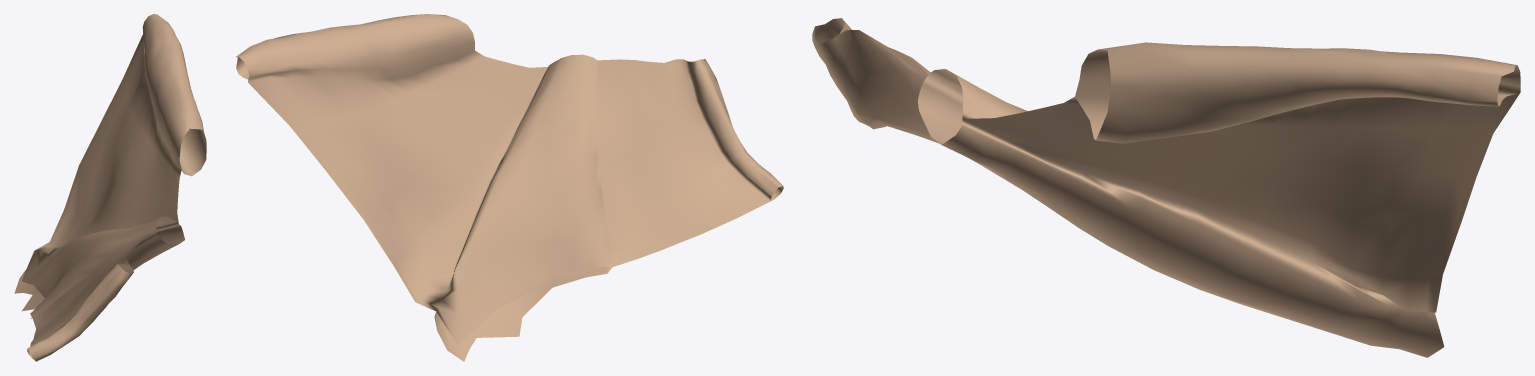
3 views of the same model, side by side, from view 1: azimuth 30°, elevation 25°; view 2: azimuth 150°, elevation 25°; view 3: azimuth 270°, elevation 25° (orthographic). The views are drawn at different scales.
Parts seen in each view (by area): view 1: 左侧锁胸筋膜; view 2: 左侧锁胸筋膜; view 3: 左侧锁胸筋膜.
Part boxes in pixels (bbox=[...]): 左侧锁胸筋膜: bbox=[14, 14, 206, 361]; 左侧锁胸筋膜: bbox=[236, 14, 783, 361]; 左侧锁胸筋膜: bbox=[812, 18, 1520, 357].
Size of the model in its own units: 0.2231 by 0.1654 by 0.2355.
